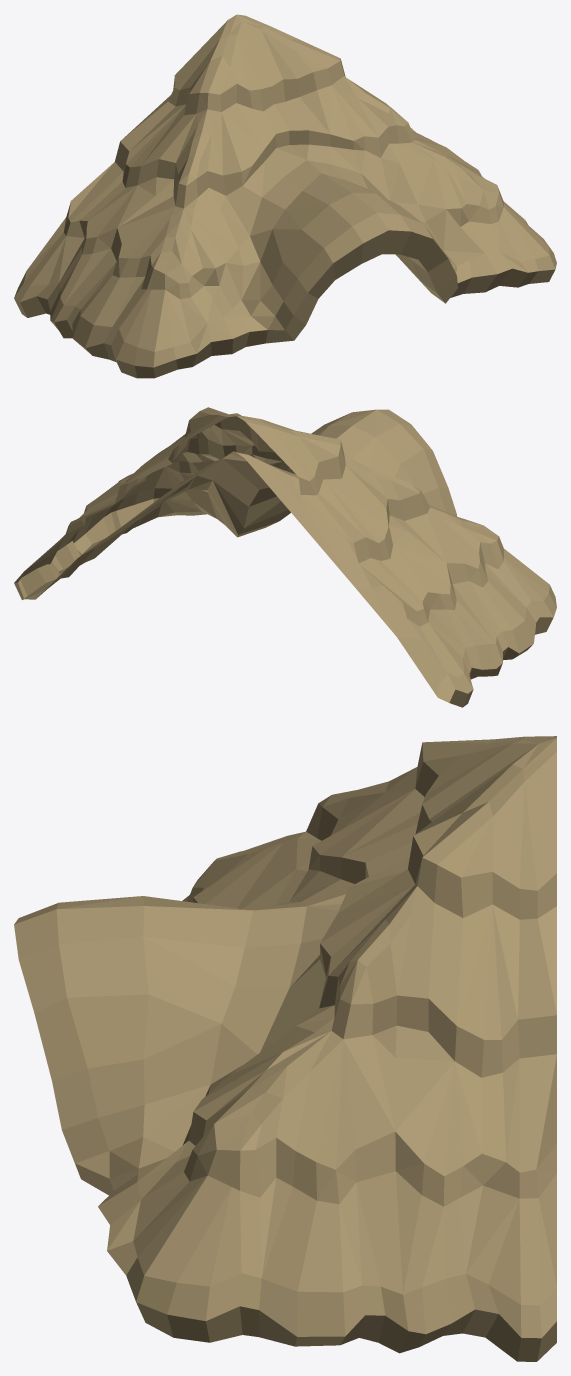
The model's file is rpgpp_ag_roof_02_6x3x3_end_04.fbx.
3 views of the same model, one above another, from view 1: azimuth 30°, elevation 25°; view 2: azimuth 150°, elevation 25°; view 3: azimuth 270°, elevation 25° (orthographic). The views are drawn at different scales.
Parts seen in each view (by area): view 1: rpgpp_ag_roof_02_6x3x3_end_04; view 2: rpgpp_ag_roof_02_6x3x3_end_04; view 3: rpgpp_ag_roof_02_6x3x3_end_04.
Part boxes in pixels (left/top/right/bottom): rpgpp_ag_roof_02_6x3x3_end_04: left=14, top=14, right=556, bottom=378; rpgpp_ag_roof_02_6x3x3_end_04: left=14, top=407, right=556, bottom=707; rpgpp_ag_roof_02_6x3x3_end_04: left=14, top=736, right=556, bottom=1361.
Bounding box in the file's own units: 8.1 × 4.12 × 4.69.
